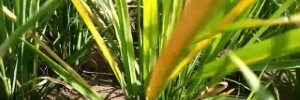RiceTungro: (150, 1, 201, 100), (74, 1, 108, 77)
